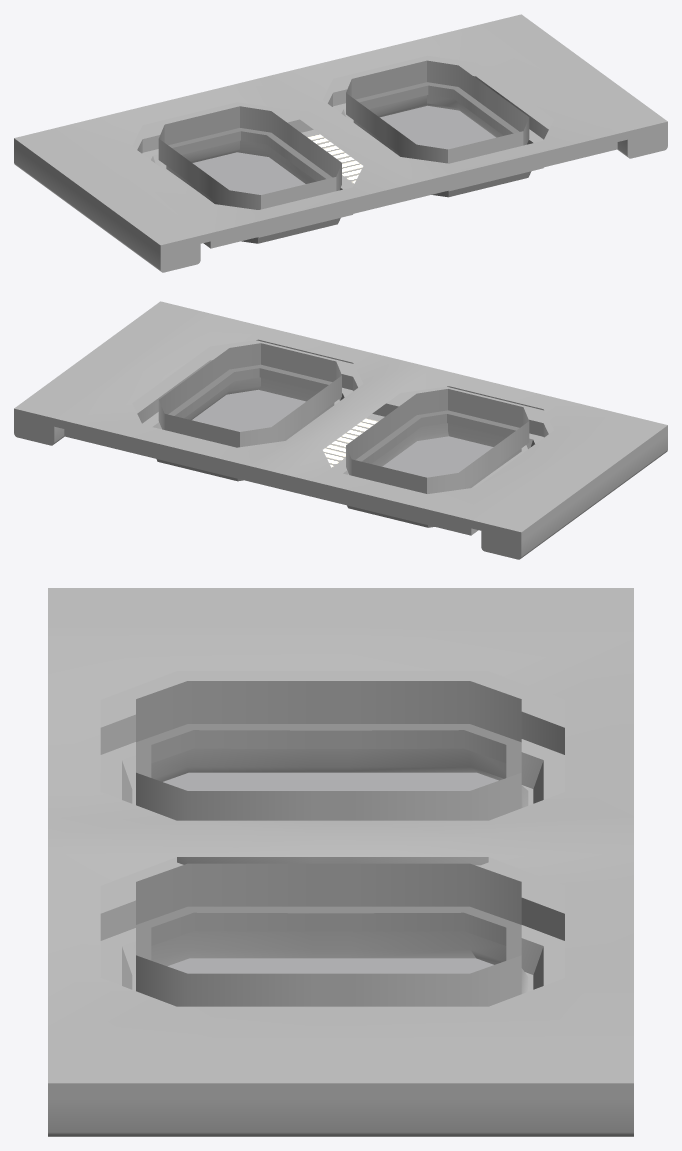
3 renders of one model, top to bottom at view 1: azimuth 30°, elevation 25°; view 2: azimuth 150°, elevation 25°; view 3: azimuth 270°, elevation 25°, orthographic. The views are drawn at different scales.
Visible parts, largest first — view 1: SM_ceiling_window; view 2: SM_ceiling_window; view 3: SM_ceiling_window.
Part boxes in pixels (box(x1,y1,x2,y2)): SM_ceiling_window: box(14, 14, 667, 272); SM_ceiling_window: box(14, 301, 667, 559); SM_ceiling_window: box(48, 588, 633, 1136).
Bounding box in the file's own units: 8 × 0.7077 × 4.
